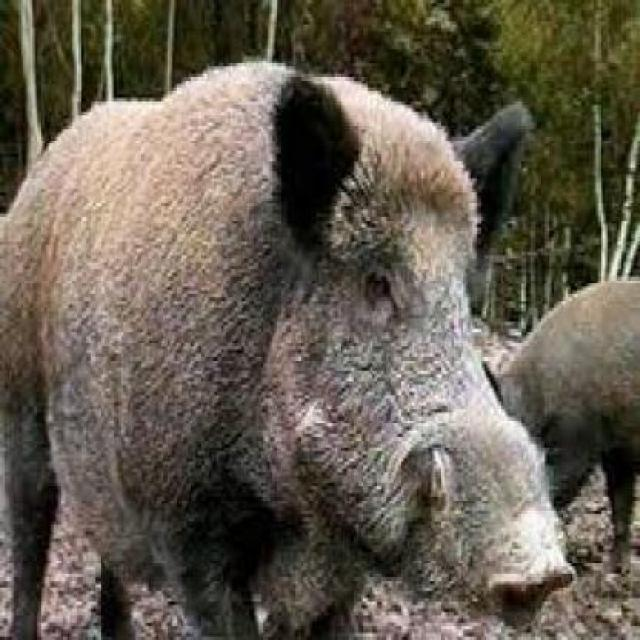wildboar: (0, 49, 577, 640), (446, 266, 640, 612)
